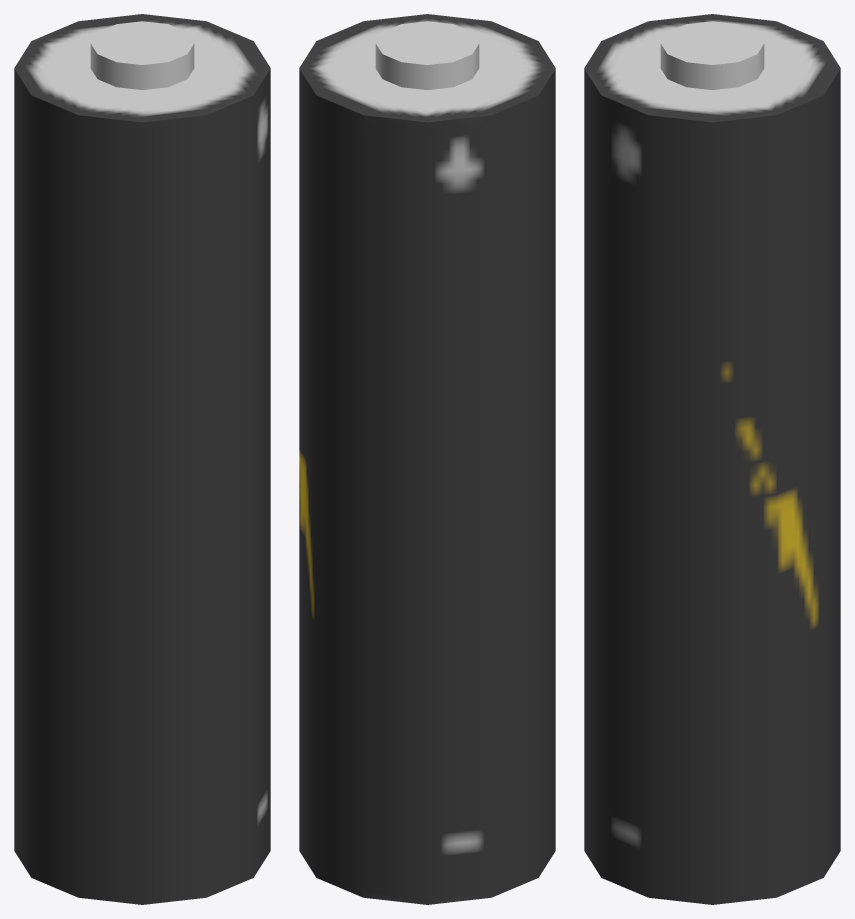
File: Battery.fbx
3 renders of one model, left to right at view 1: azimuth 30°, elevation 25°; view 2: azimuth 150°, elevation 25°; view 3: azimuth 270°, elevation 25°, orthographic.
Visible parts, largest first — view 1: Battery; view 2: Battery; view 3: Battery.
Boxes of the visible parts, <box> form: Battery: <box>14,14,270,904</box>; Battery: <box>299,14,555,904</box>; Battery: <box>584,14,840,904</box>.
Bounding box in the file's own units: 0.0144 × 0.05 × 0.0144.
